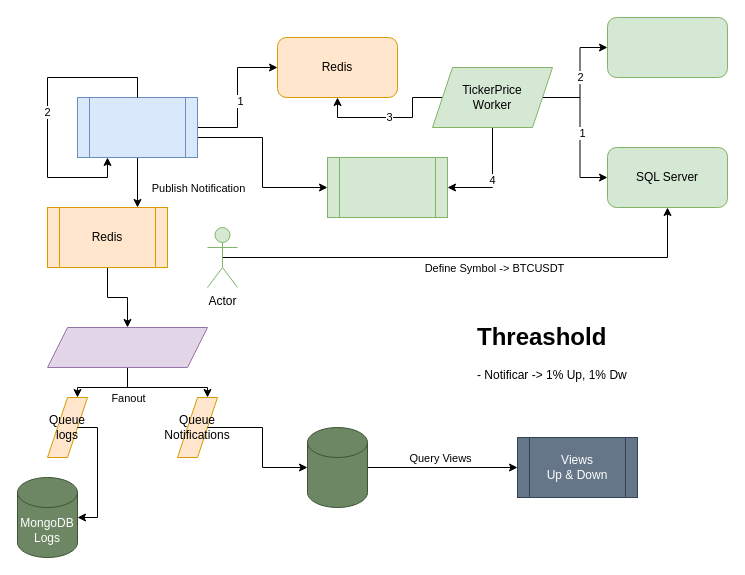
Some shapes in this 745 by 575 pixel diagram are drawn without their labels. Each missing label, with the centre of its shape:
"Binance" goes at point (667, 47).
"Console" goes at point (387, 187).
"Estatistica Scylla" goes at point (337, 467).
"Threashold" goes at point (137, 127).
"Threashold Notification" goes at point (127, 347).
